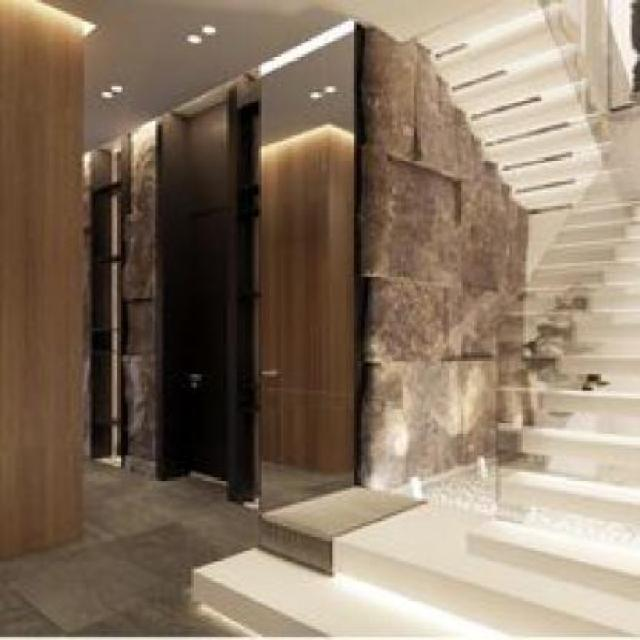stair: (440, 149, 638, 626)
